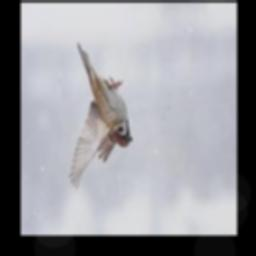Sparrow: (68, 43, 132, 189)
